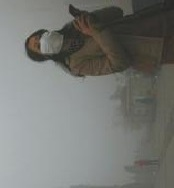person: (27, 6, 174, 75), (132, 159, 161, 167)
